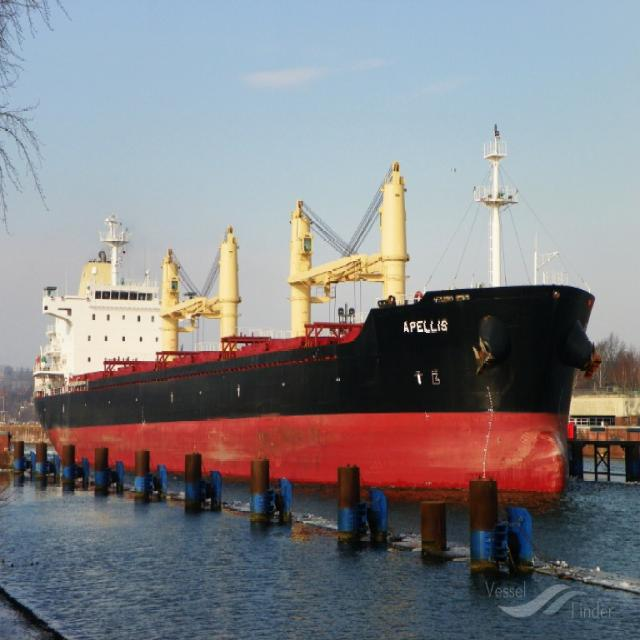OCR: (398, 314, 455, 342)
